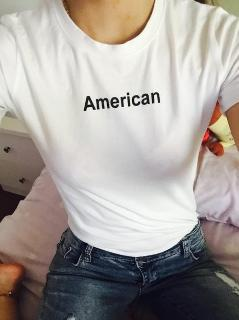short sleeve top: (0, 0, 239, 257)
trousers: (38, 219, 239, 319)
